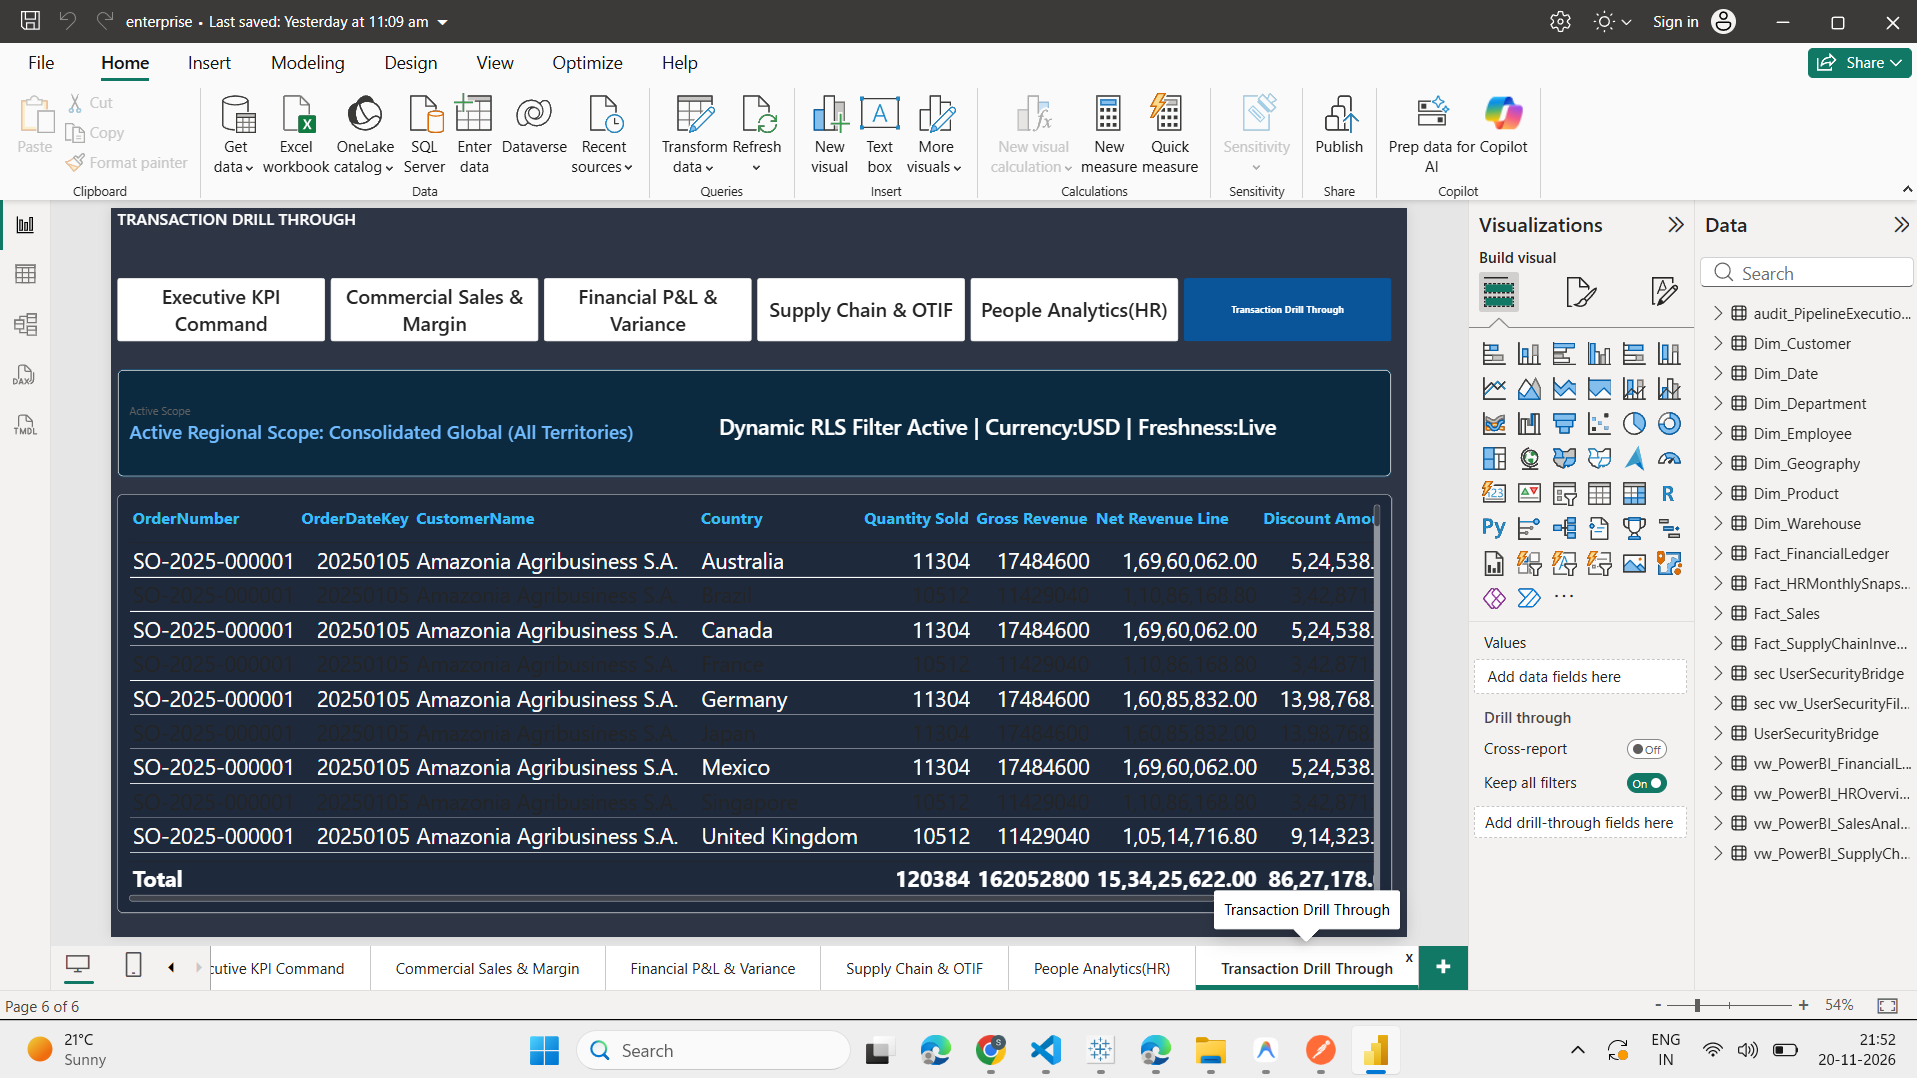

Layout of this report page (visuals, bound fields, positions):
{"tool":"powerbi","page":{"name":"Transaction Drill Through","canvas":[1920,1080],"ordinal":5},"visuals":[{"type":"textbox","box":[10,0,626,80],"z":0},{"type":"pageNavigator","box":[10,104,1888,94],"z":1000},{"type":"cardVisual","fields":{"Data":["Fact_Sales.Active Scope"]},"box":[10,238,1888,160],"z":2000},{"type":"textbox","box":[896,302,1002,54],"z":3000},{"type":"tableEx","fields":{"Values":["Fact_Sales.OrderNumber","Fact_Sales.OrderDateKey","Dim_Customer.CustomerName","Dim_Geography.Country","Fact_Sales.Quantity Sold","Fact_Sales.Gross Revenue","Fact_Sales.Net Revenue Line","Fact_Sales.Discount Amount","Fact_Sales.Margin $"]},"box":[10,424,1888,620],"z":4000}]}

Visuals, with their boxes on the page's 1920x1080 design canvas (x1, y1, x2, y2). These are canvas units, not pixel positions in the 1917x1078 screenshot, which may show the page scaled, cropped or inside an application window:
textbox: [10,0,636,80]
pageNavigator: [10,104,1898,198]
cardVisual - Fact_Sales.Active Scope: [10,238,1898,398]
textbox: [896,302,1898,356]
tableEx - Fact_Sales.OrderNumber x Fact_Sales.OrderDateKey: [10,424,1898,1044]
